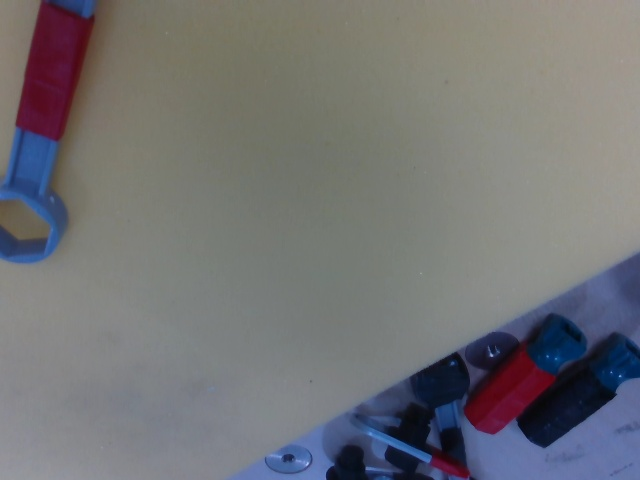part_1_good: (348, 400, 479, 479)
